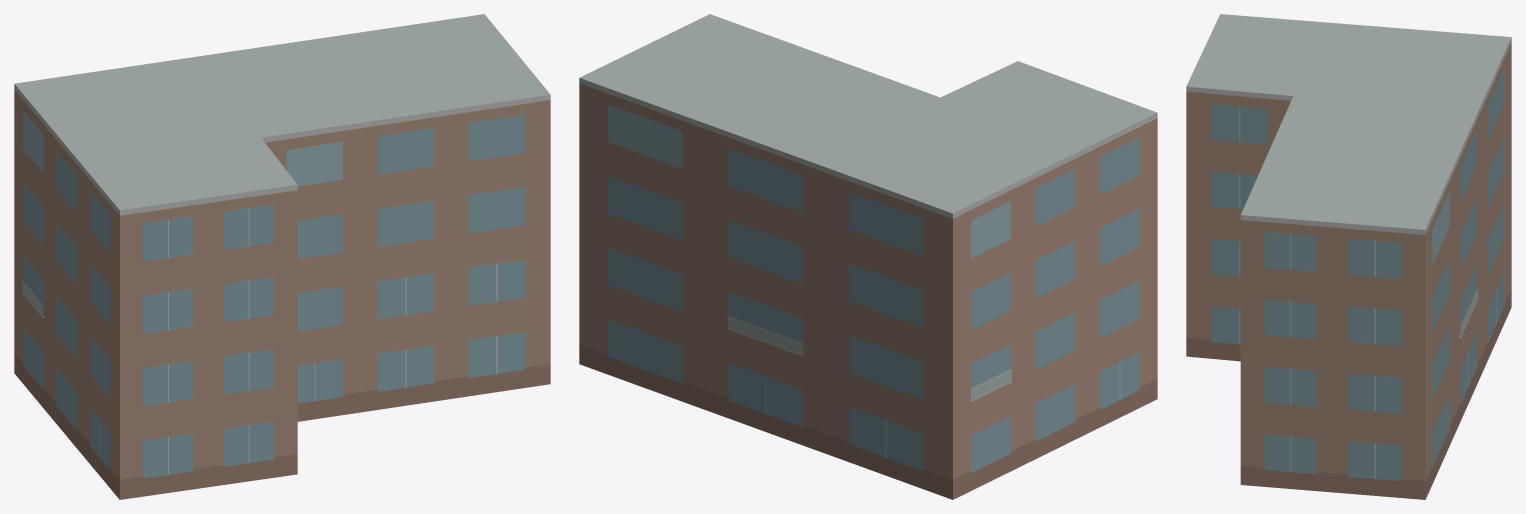
The model's file is survey-upis-32537225.glb.
The picture shows the model from 3 angles, left to right: view 1: azimuth 30°, elevation 25°; view 2: azimuth 150°, elevation 25°; view 3: azimuth 270°, elevation 25°; orthographic projection. The views are drawn at different scales.
Parts seen in each view (by area): view 1: survey-upis-32537225.tmp; view 2: survey-upis-32537225.tmp; view 3: survey-upis-32537225.tmp.
Part boxes in pixels (x1,y1,x2,y2): survey-upis-32537225.tmp: (14, 14, 550, 499); survey-upis-32537225.tmp: (579, 14, 1157, 499); survey-upis-32537225.tmp: (1186, 14, 1511, 499).
Bounding box in the file's own units: 22.32 × 13 × 14.21.
